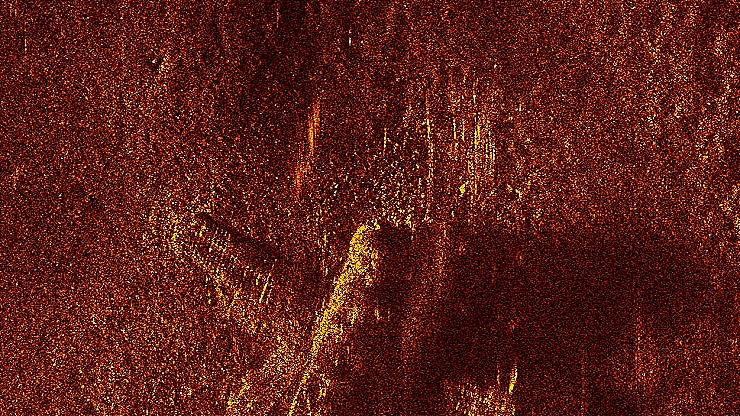aircraft: (171, 208, 528, 415)
